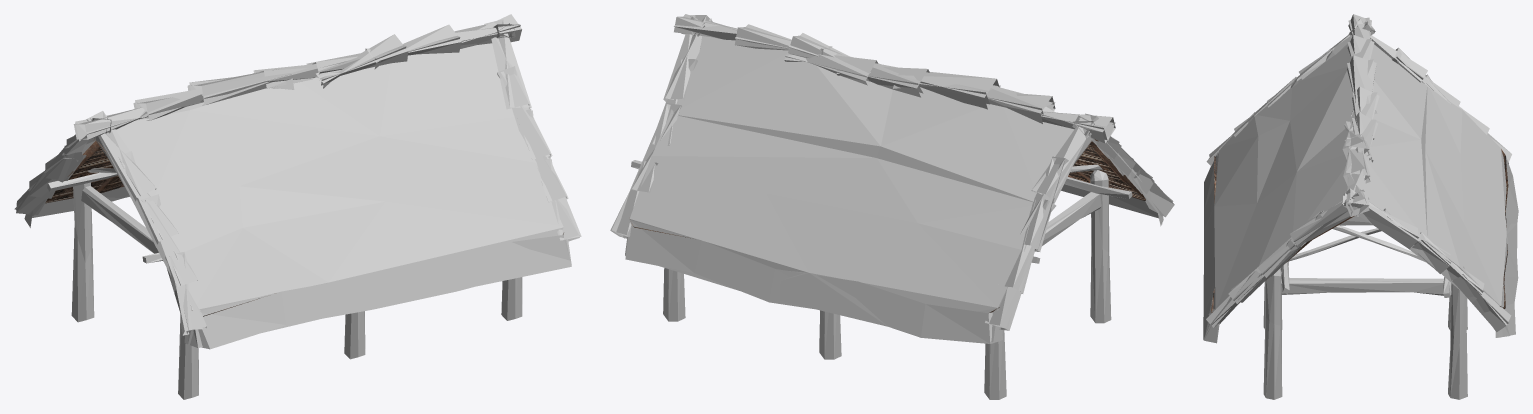
Rendered from Shelter_1_LOD2.fbx.
The picture shows the model from 3 angles, left to right: view 1: azimuth 30°, elevation 25°; view 2: azimuth 150°, elevation 25°; view 3: azimuth 270°, elevation 25°; orthographic projection. The views are drawn at different scales.
Visible parts, largest first — view 1: Alphas, Wood, Roof; view 2: Alphas, Wood, Roof; view 3: Alphas, Wood, Roof.
Boxes of the visible parts, bbox=[...] form: Alphas: bbox=[14, 14, 581, 349]; Wood: bbox=[47, 157, 550, 399]; Roof: bbox=[45, 139, 563, 316]; Alphas: bbox=[610, 14, 1174, 343]; Wood: bbox=[631, 160, 1132, 399]; Roof: bbox=[632, 139, 1145, 312]; Alphas: bbox=[1203, 14, 1518, 343]; Wood: bbox=[1263, 215, 1467, 399]; Roof: bbox=[1211, 149, 1508, 312].
Bounding box in the file's own units: 1932 × 1392 × 1117.
